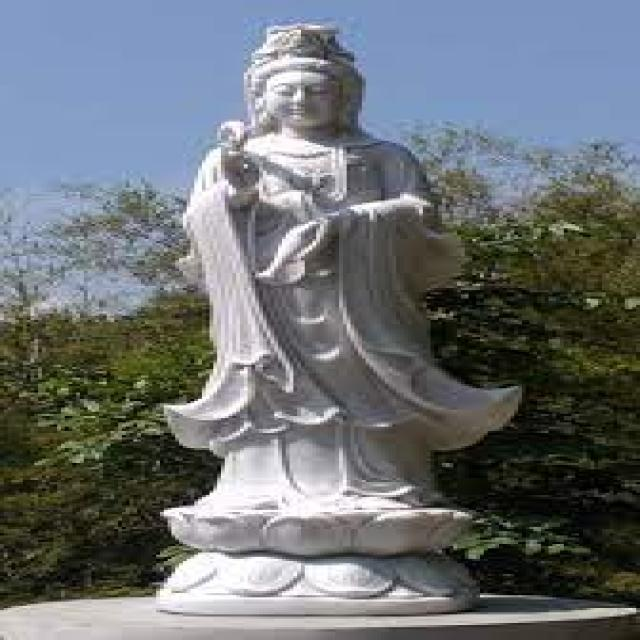Guan Yin: (170, 20, 482, 457)
